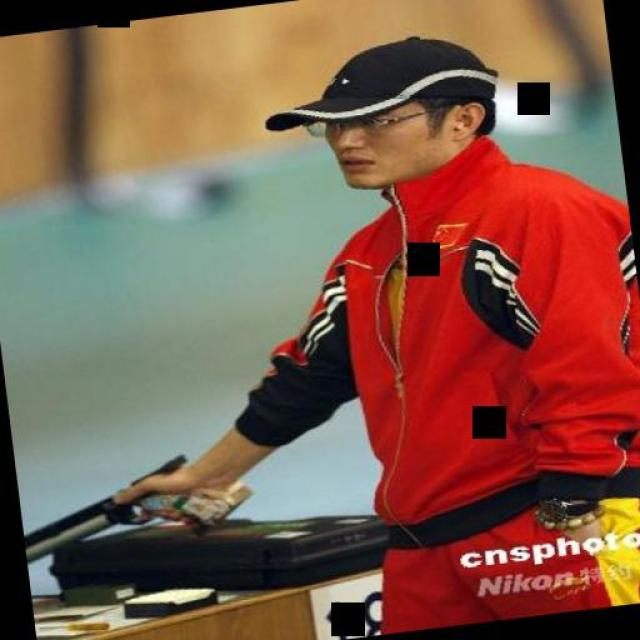gun: (16, 444, 256, 558)
